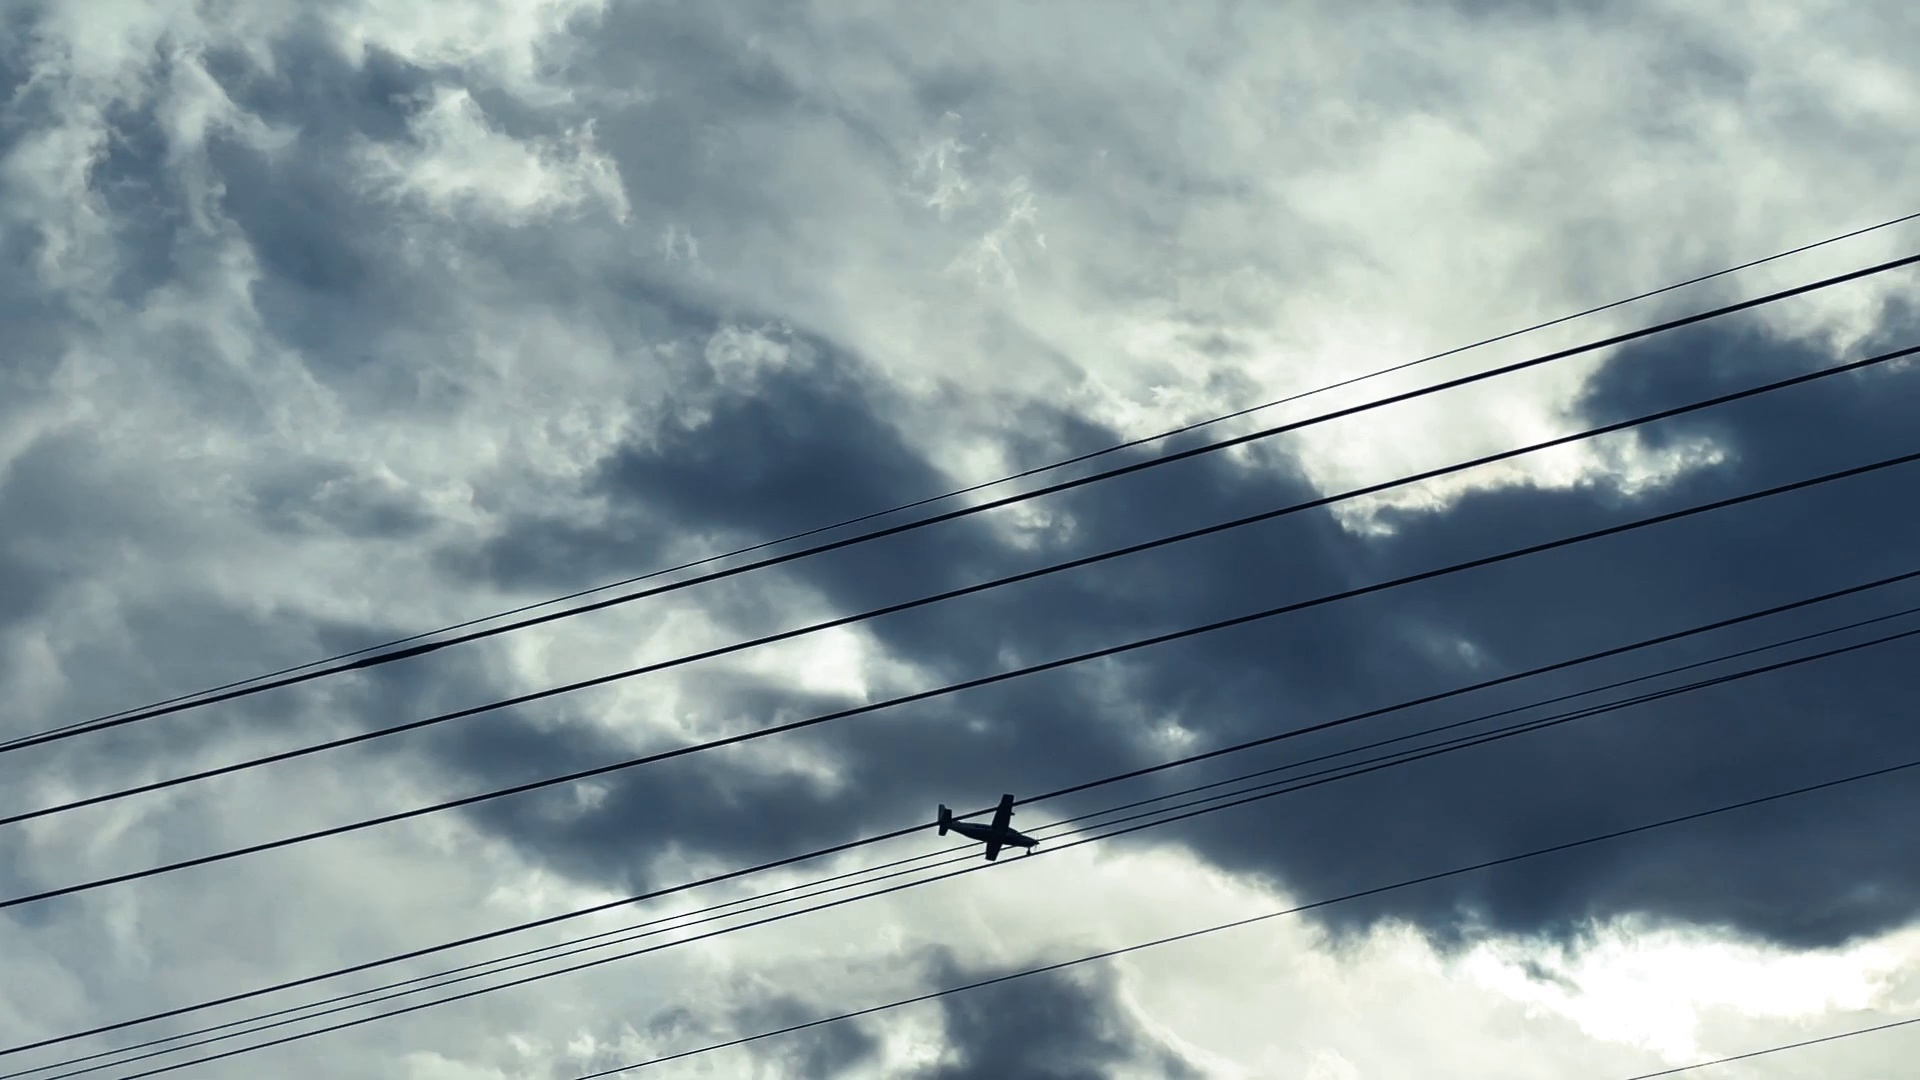plane: (938, 793, 1042, 862)
